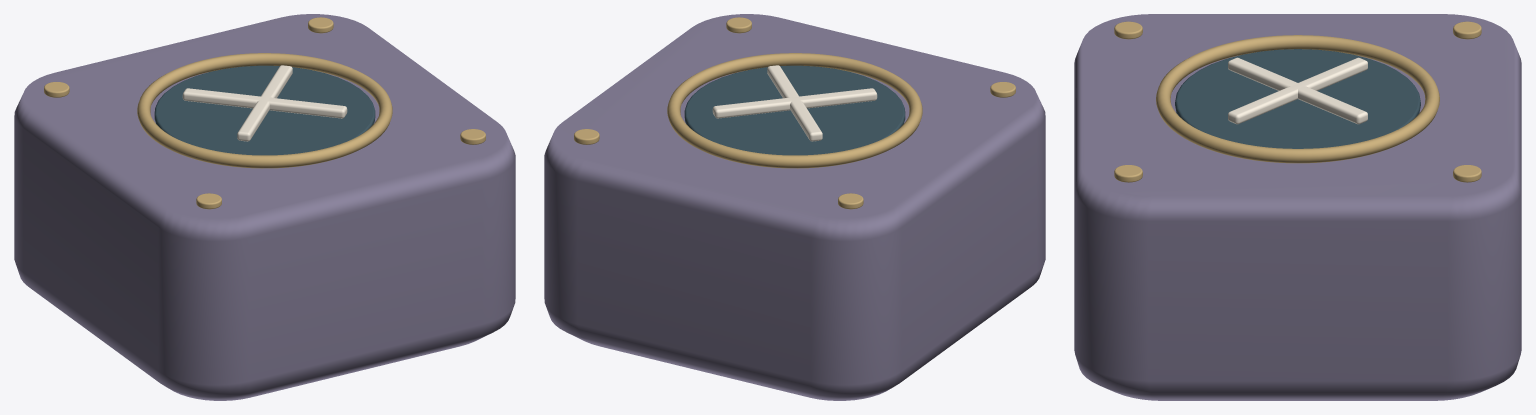
The model's file is echo_obstacle.glb.
3 renders of one model, left to right at view 1: azimuth 30°, elevation 25°; view 2: azimuth 150°, elevation 25°; view 3: azimuth 270°, elevation 25°, orthographic. The views are drawn at different scales.
Parts seen in each view (by area): view 1: echo_obstacle__Muted_clockwork_lavender, echo_obstacle__Deep_sea_enamel, echo_obstacle__Brushed_champagne_brass, echo_obstacle__Warm_porcelain_glaze; view 2: echo_obstacle__Muted_clockwork_lavender, echo_obstacle__Deep_sea_enamel, echo_obstacle__Brushed_champagne_brass, echo_obstacle__Warm_porcelain_glaze; view 3: echo_obstacle__Muted_clockwork_lavender, echo_obstacle__Deep_sea_enamel, echo_obstacle__Brushed_champagne_brass, echo_obstacle__Warm_porcelain_glaze.
Part boxes in pixels (x1,y1,x2,y2): echo_obstacle__Muted_clockwork_lavender: (14,14,515,400); echo_obstacle__Deep_sea_enamel: (154,65,375,155); echo_obstacle__Brushed_champagne_brass: (44,17,485,209); echo_obstacle__Warm_porcelain_glaze: (182,65,347,141); echo_obstacle__Muted_clockwork_lavender: (544,14,1045,400); echo_obstacle__Deep_sea_enamel: (684,65,905,155); echo_obstacle__Brushed_champagne_brass: (574,17,1015,209); echo_obstacle__Warm_porcelain_glaze: (712,65,877,141); echo_obstacle__Muted_clockwork_lavender: (1074,14,1521,400); echo_obstacle__Deep_sea_enamel: (1175,49,1420,148); echo_obstacle__Brushed_champagne_brass: (1114,21,1481,182); echo_obstacle__Warm_porcelain_glaze: (1228,57,1367,124).
Size of the model in its own units: 1.03 by 0.5835 by 1.03.
